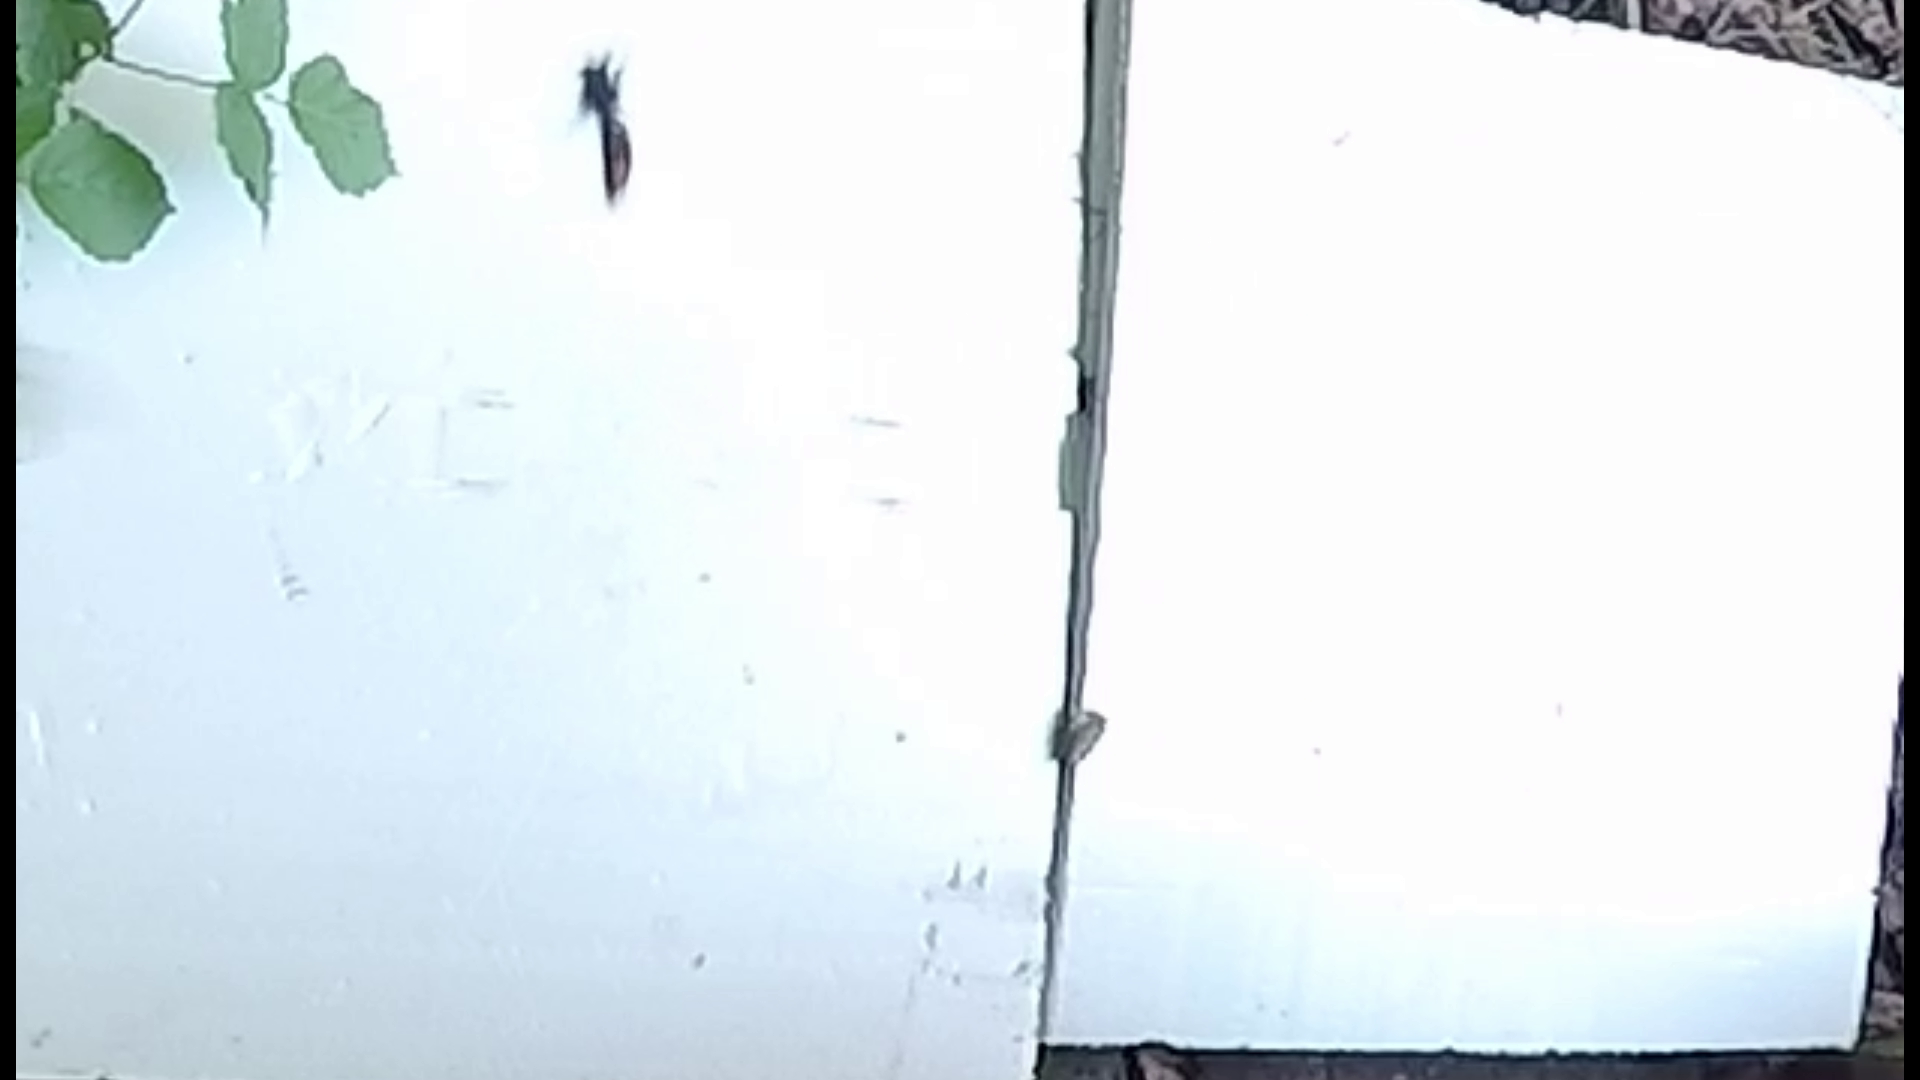Asian_hornets: (550, 18, 645, 210)
